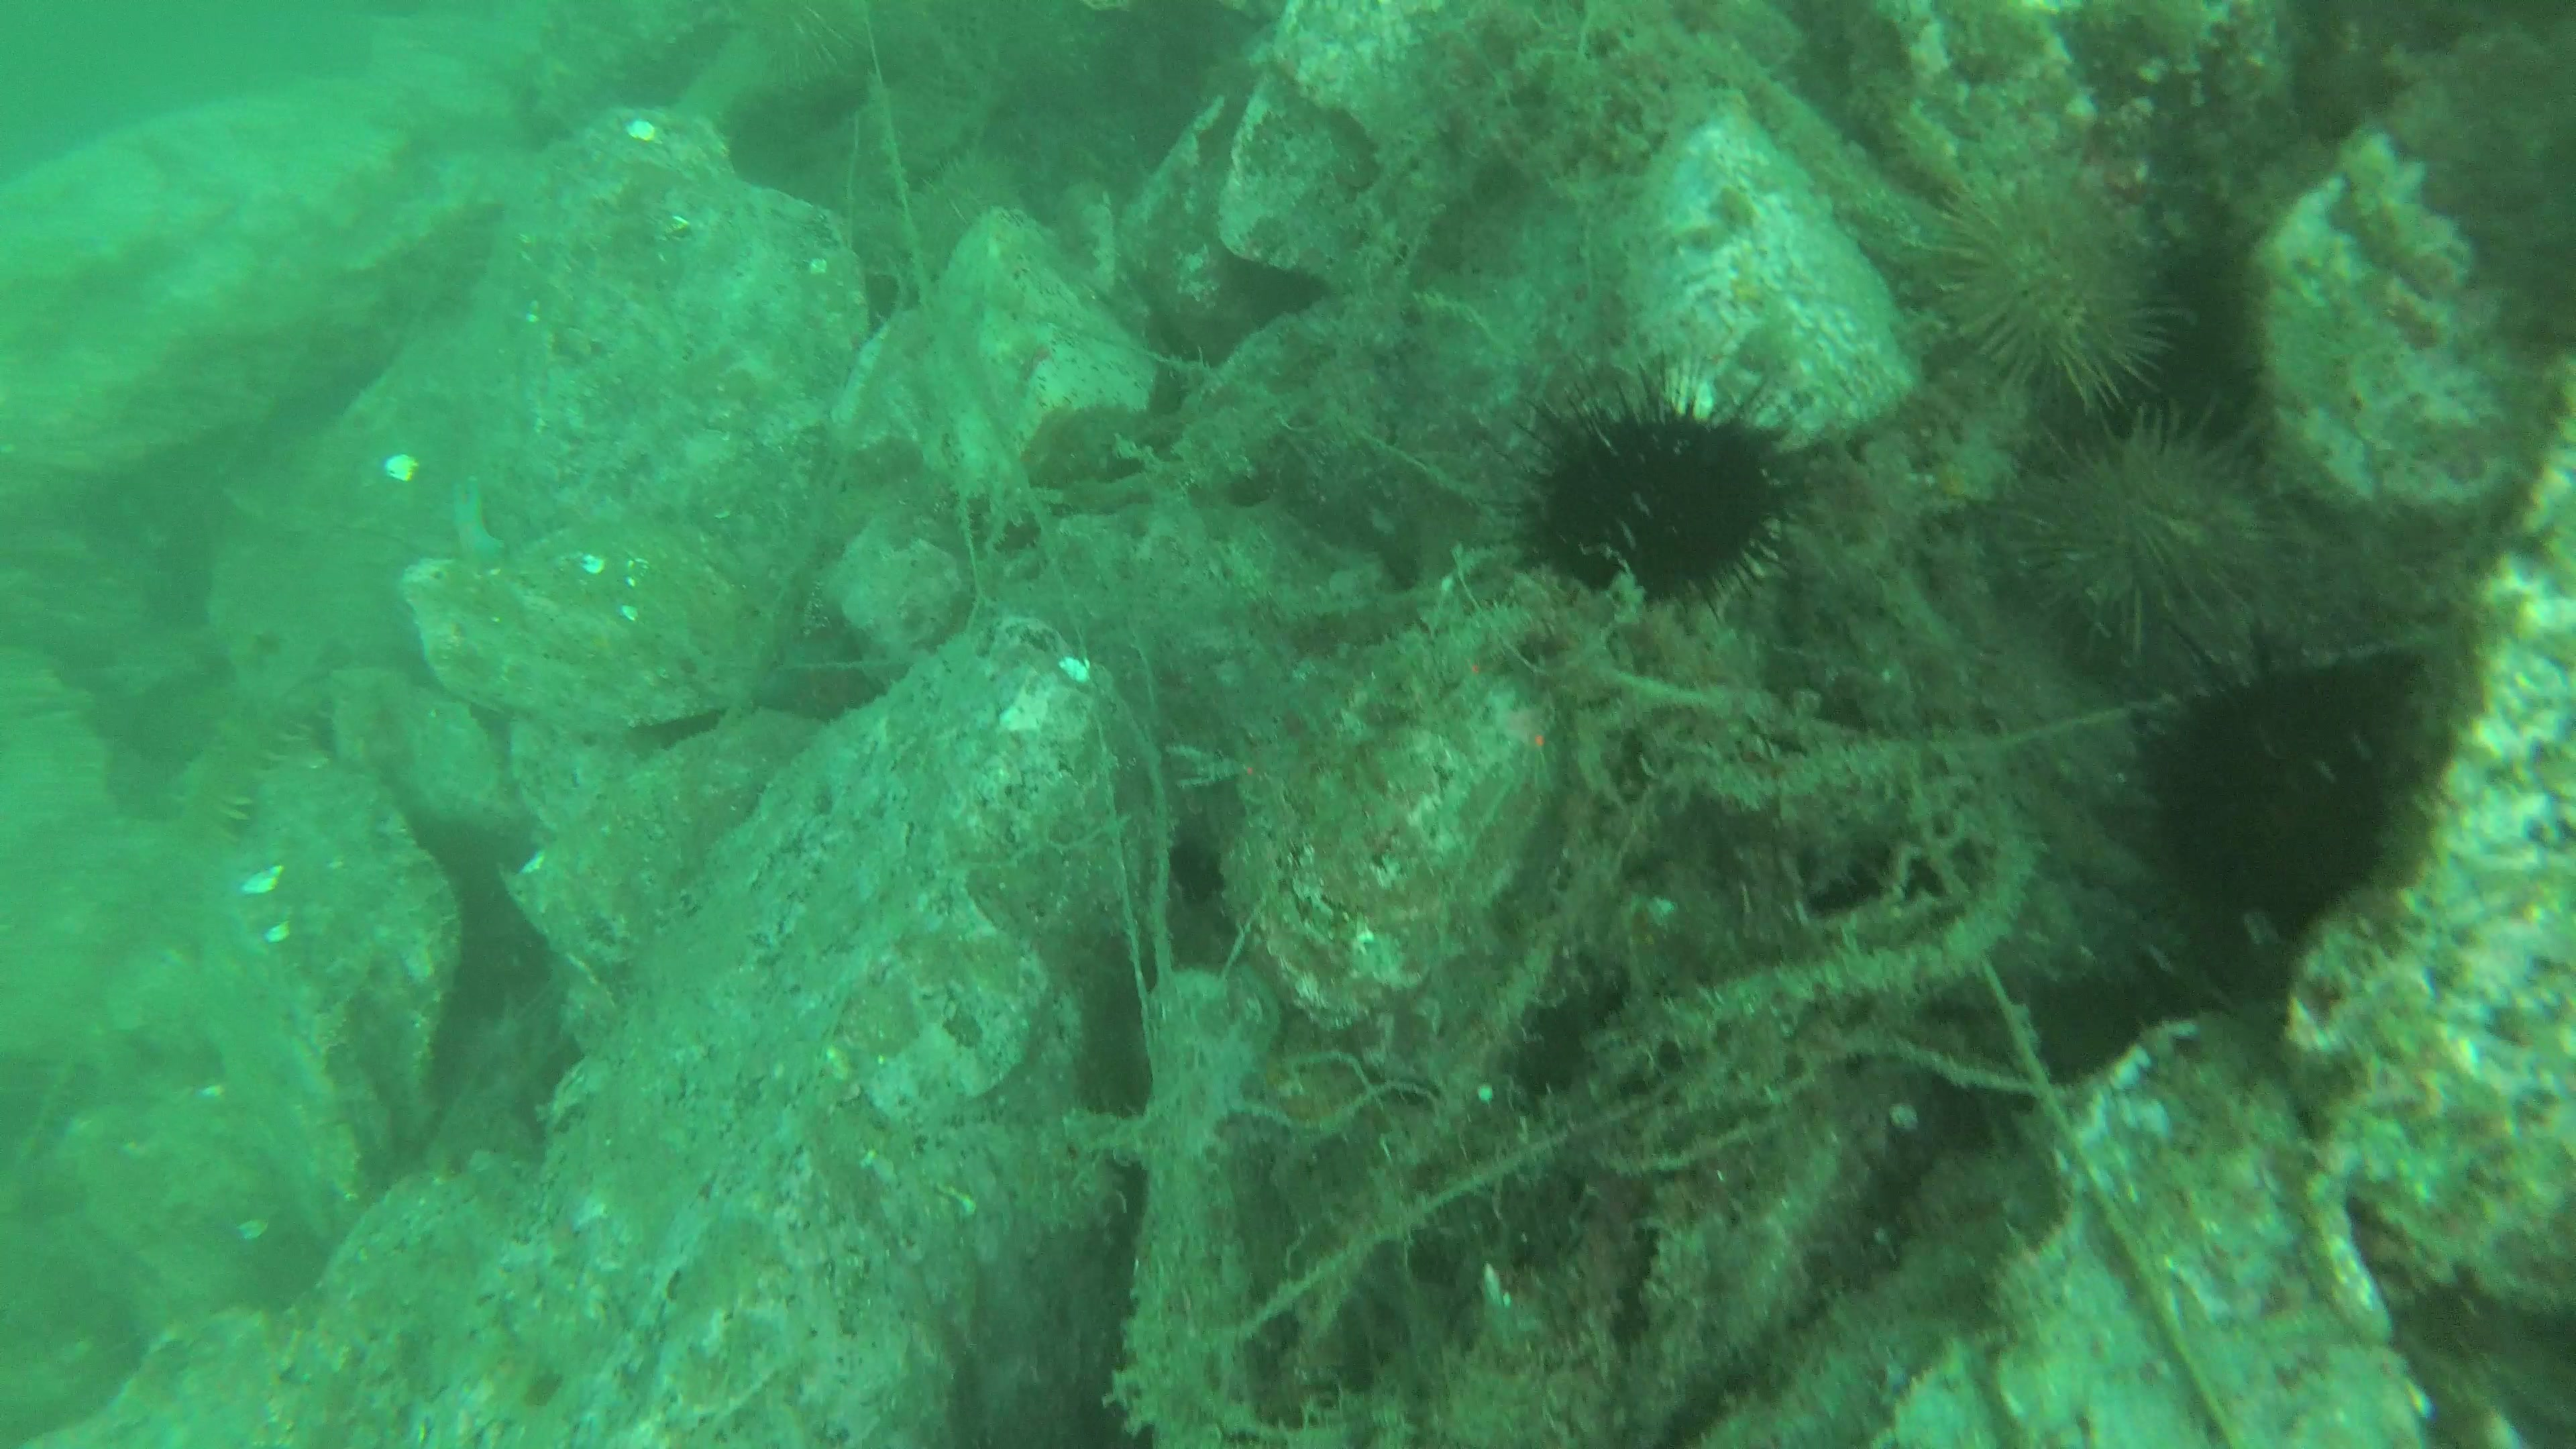echinus: (1966, 389, 2426, 692), (1884, 156, 2203, 433), (2128, 637, 2449, 911), (1506, 366, 1813, 607), (892, 157, 1021, 278), (738, 0, 897, 73)
holothurian: (161, 692, 306, 863)
